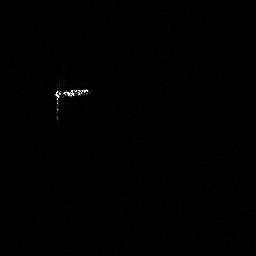ship: (50, 83, 94, 124)
